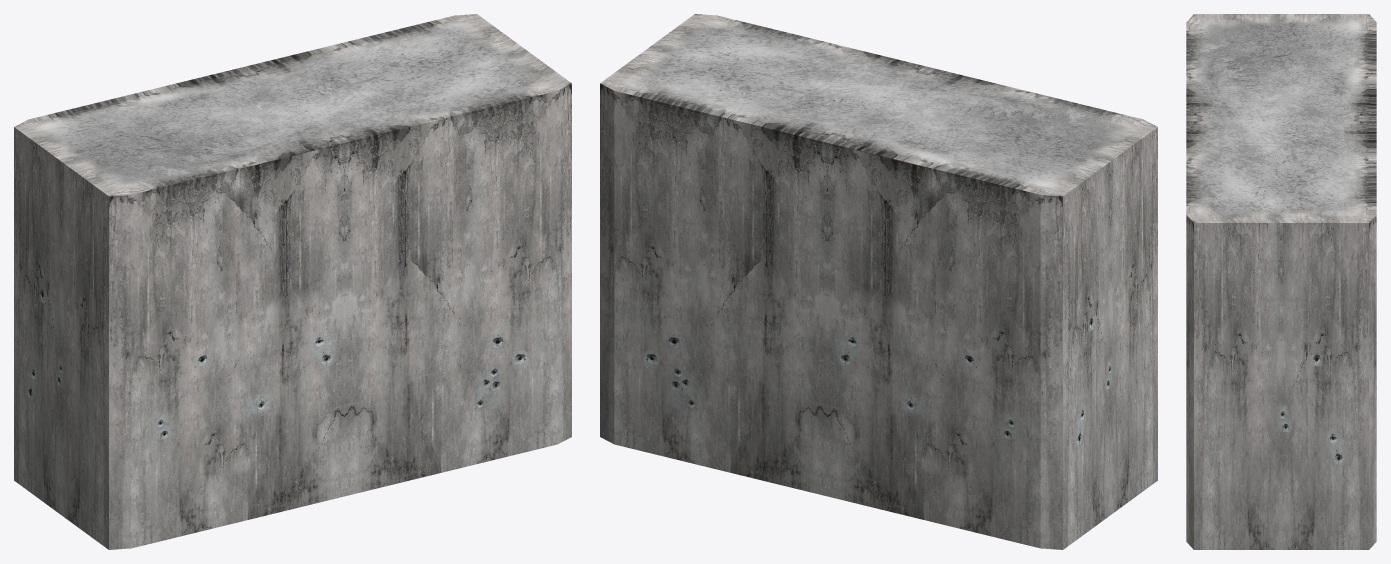
The model's file is wall.fbx.
3 views of the same model, side by side, from view 1: azimuth 30°, elevation 25°; view 2: azimuth 150°, elevation 25°; view 3: azimuth 270°, elevation 25° (orthographic). The views are drawn at different scales.
Parts seen in each view (by area): view 1: Cube; view 2: Cube; view 3: Cube.
Part boxes in pixels (left/top/right/bottom): Cube: left=14, top=14, right=571, bottom=549; Cube: left=600, top=14, right=1157, bottom=549; Cube: left=1186, top=14, right=1376, bottom=549.
Bounding box in the file's own units: 274 × 200 × 106.
